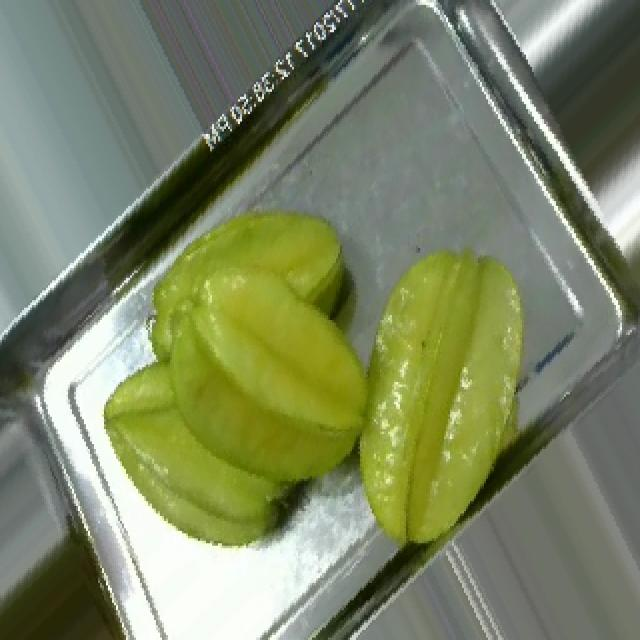fruit: (98, 169, 440, 558), (318, 206, 594, 575)
